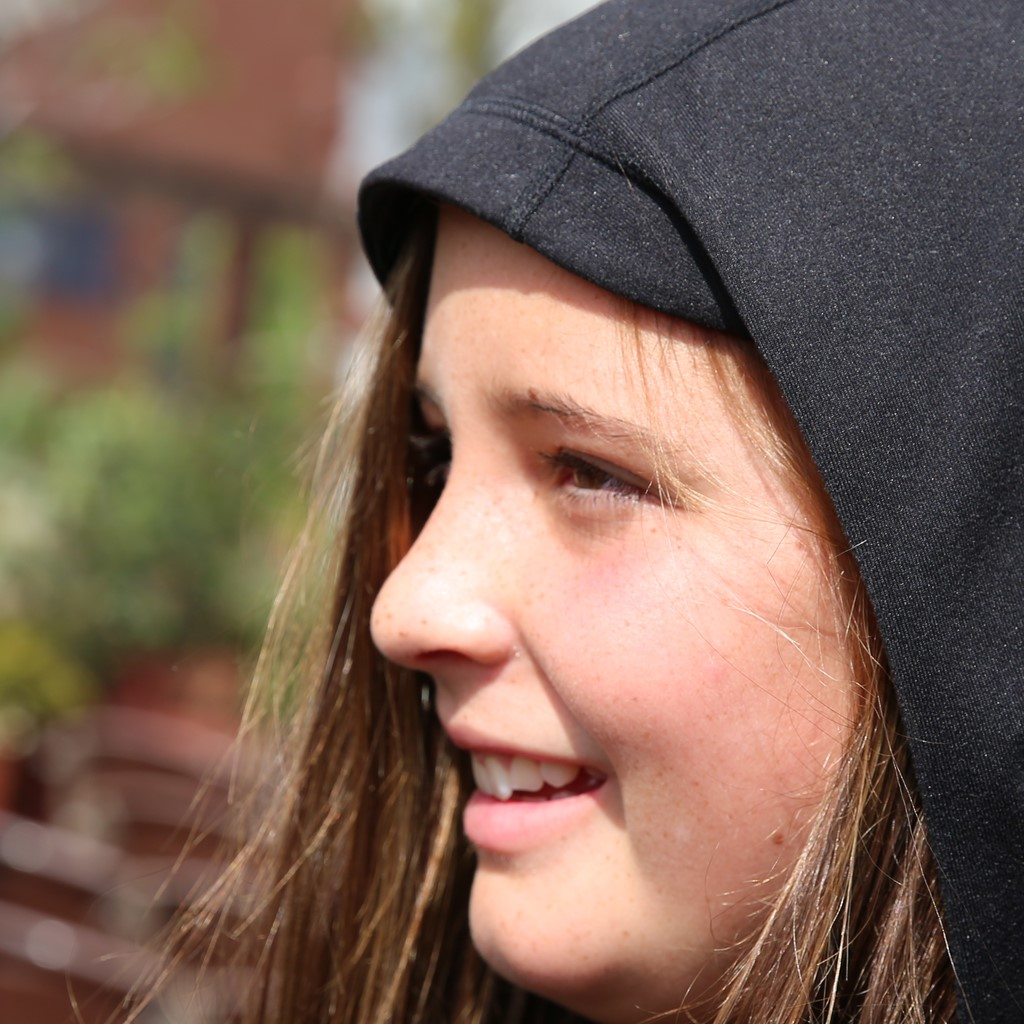sin_mascara: (379, 164, 911, 1015)
